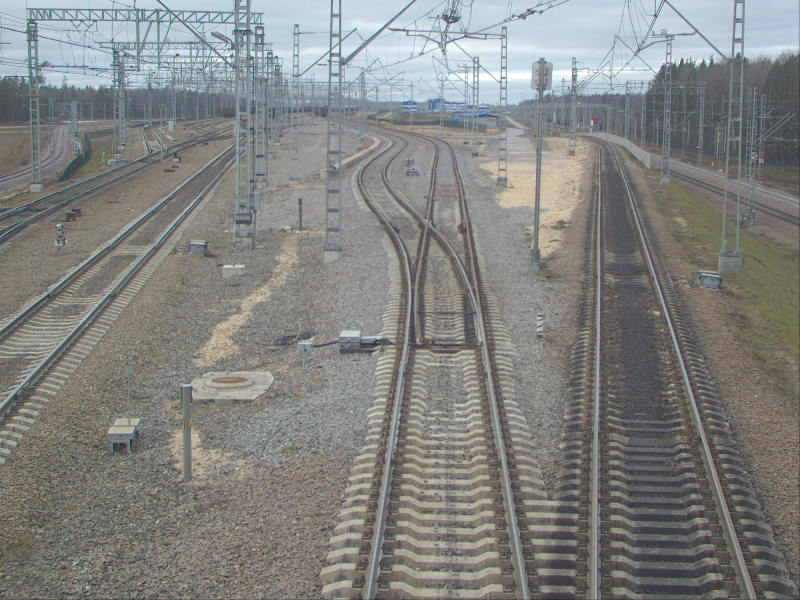left: (373, 203, 497, 358)
